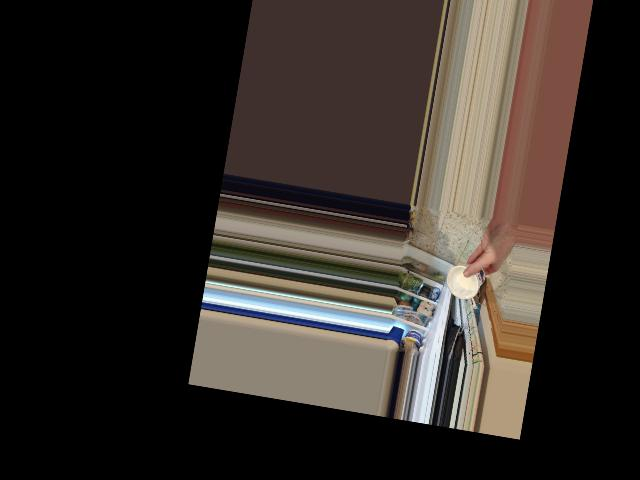cotage: (443, 259, 489, 305)
